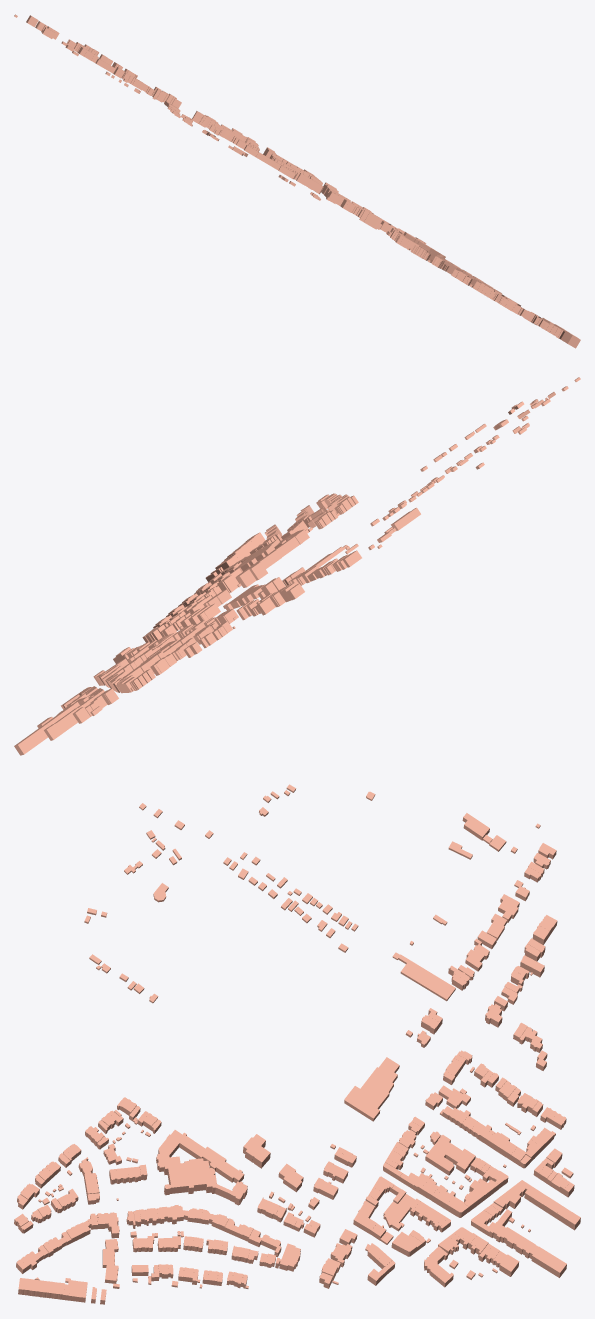
The picture shows the model from 3 angles, top to bottom: view 1: azimuth 30°, elevation 25°; view 2: azimuth 150°, elevation 25°; view 3: azimuth 270°, elevation 25°; orthographic projection. The views are drawn at different scales.
Size of the model in its own units: 505 by 380 by 604.
